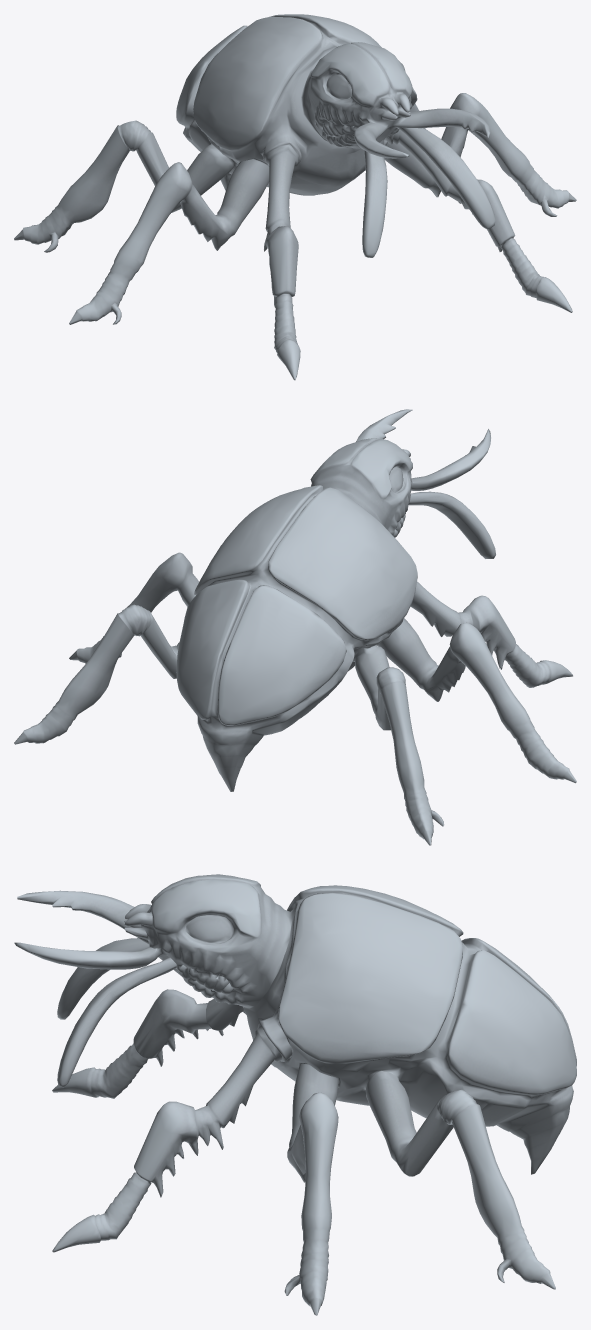
Rendered from giant_fire_beetle.glb.
3 views of the same model, one above another, from view 1: azimuth 30°, elevation 25°; view 2: azimuth 150°, elevation 25°; view 3: azimuth 270°, elevation 25° (orthographic). The views are drawn at different scales.
Parts seen in each view (by area): view 1: ORGANIC_BASE_SPHERE.001; view 2: ORGANIC_BASE_SPHERE.001; view 3: ORGANIC_BASE_SPHERE.001.
Part boxes in pixels (x1=…): ORGANIC_BASE_SPHERE.001: x1=14, y1=14, x2=576, y2=380; ORGANIC_BASE_SPHERE.001: x1=14, y1=409, x2=576, y2=845; ORGANIC_BASE_SPHERE.001: x1=14, y1=874, x2=576, y2=1315.
Bounding box in the file's own units: 40.66 × 19.04 × 32.87.
1 material, 1 textured.
